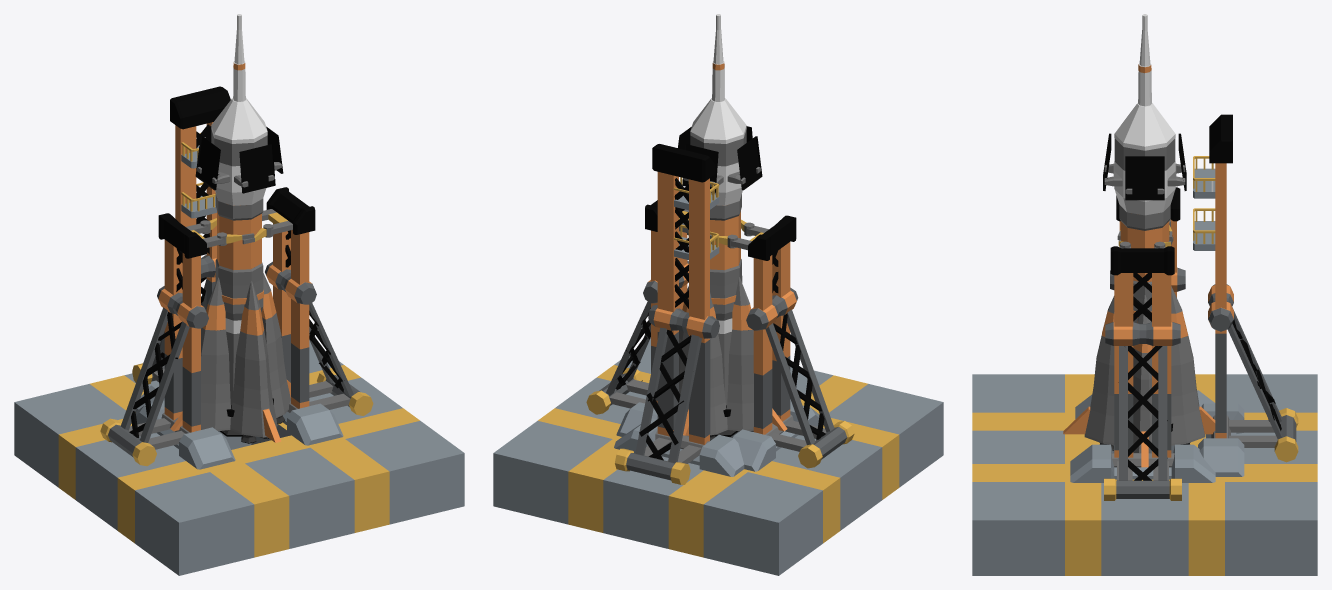
File: rocket.gltf
The picture shows the model from 3 angles, left to right: view 1: azimuth 30°, elevation 25°; view 2: azimuth 150°, elevation 25°; view 3: azimuth 270°, elevation 25°; orthographic projection. The views are drawn at different scales.
Visible parts, largest first — view 1: Cube, Cylinder, Cube.087, Cube.024, Cube.001, Cube.061, Cube.062, Cylinder.006, Cylinder.002, Cube.003, Cube.105, Cube.041; view 2: Cube, Cylinder, Cube.087, Cube.061, Cube.062, Cube.001, Cylinder.002, Cube.024, Cylinder.006, Cube.003, Cube.105; view 3: Cube, Cylinder, Cube.087, Cube.001, Cube.061, Cube.024, Cube.062, Cylinder.006, Cylinder.002, Cube.003, Cube.041, Cube.042 (+1 smaller).
Boxes of the visible parts, x1=… form: Cube: x1=14, y1=340, x2=464, y2=575; Cylinder: x1=170, y1=14, x2=290, y2=443; Cube.087: x1=164, y1=122, x2=309, y2=432; Cube.024: x1=158, y1=86, x2=315, y2=258; Cube.001: x1=135, y1=383, x2=343, y2=469; Cube.061: x1=121, y1=279, x2=353, y2=442; Cube.062: x1=129, y1=124, x2=344, y2=438; Cylinder.006: x1=157, y1=255, x2=316, y2=328; Cylinder.002: x1=100, y1=363, x2=373, y2=466; Cube.003: x1=129, y1=369, x2=350, y2=449; Cube.105: x1=186, y1=209, x2=292, y2=247; Cube.041: x1=181, y1=146, x2=216, y2=218; Cube: x1=493, y1=338, x2=943, y2=575; Cylinder: x1=678, y1=14, x2=787, y2=440; Cube.087: x1=651, y1=172, x2=790, y2=444; Cube.061: x1=606, y1=301, x2=834, y2=463; Cube.062: x1=615, y1=178, x2=825, y2=460; Cube.001: x1=614, y1=402, x2=819, y2=476; Cylinder.002: x1=586, y1=367, x2=854, y2=484; Cube.024: x1=645, y1=144, x2=796, y2=260; Cylinder.006: x1=643, y1=260, x2=798, y2=338; Cube.003: x1=609, y1=379, x2=826, y2=463; Cube.105: x1=679, y1=209, x2=768, y2=250; Cube: x1=972, y1=374, x2=1317, y2=575; Cylinder: x1=1063, y1=14, x2=1215, y2=467; Cube.087: x1=1114, y1=163, x2=1226, y2=457; Cube.001: x1=1070, y1=390, x2=1244, y2=482; Cube.061: x1=1119, y1=307, x2=1281, y2=480; Cube.024: x1=1110, y1=114, x2=1232, y2=275; Cube.062: x1=1118, y1=273, x2=1281, y2=480; Cylinder.006: x1=1105, y1=267, x2=1233, y2=345; Cylinder.002: x1=1104, y1=408, x2=1298, y2=500; Cube.003: x1=1117, y1=420, x2=1277, y2=480; Cube.041: x1=1193, y1=168, x2=1215, y2=250; Cube.042: x1=1193, y1=156, x2=1215, y2=243.
Bounding box in the file's own units: 287 × 447 × 287.
